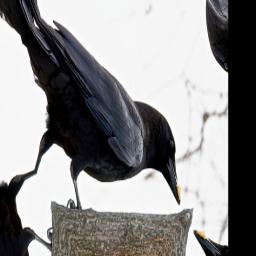Crow: (0, 0, 199, 256)
